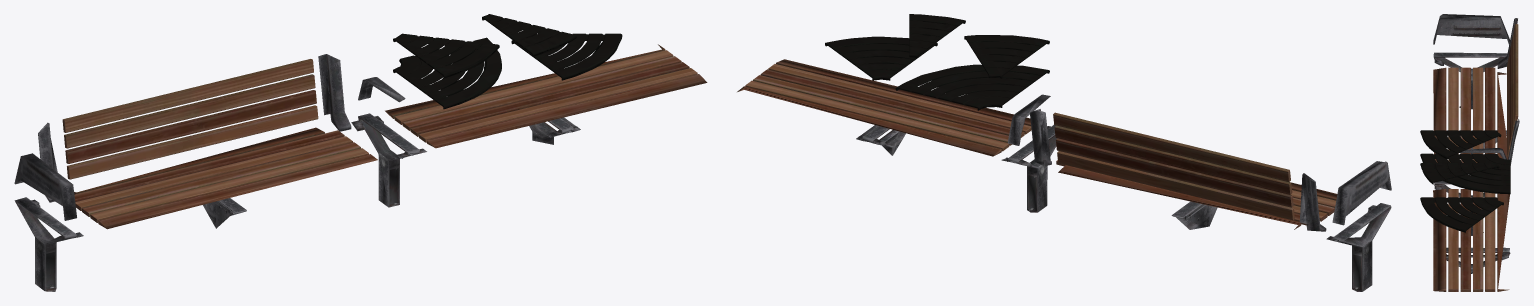
The model's file is modular_street_seating.glb.
The picture shows the model from 3 angles, left to right: view 1: azimuth 30°, elevation 25°; view 2: azimuth 150°, elevation 25°; view 3: azimuth 270°, elevation 25°; orthographic projection. The views are drawn at different scales.
Parts seen in each view (by area): view 1: seat, connector_60, legs_double, crossbar; view 2: seat, connector_60, legs_double, crossbar; view 3: seat, connector_60, crossbar, legs_double.
Boxes of the visible parts, bbox=[...] form: seat: bbox=[62, 44, 707, 229]; connector_60: bbox=[393, 14, 622, 109]; legs_double: bbox=[14, 113, 580, 291]; crossbar: bbox=[14, 54, 405, 220]; seat: bbox=[737, 59, 1337, 229]; connector_60: bbox=[825, 14, 1049, 110]; legs_double: bbox=[856, 125, 1391, 291]; crossbar: bbox=[1007, 94, 1391, 231]; seat: bbox=[1433, 24, 1518, 291]; connector_60: bbox=[1420, 130, 1510, 232]; crossbar: bbox=[1433, 14, 1519, 165]; legs_double: bbox=[1433, 52, 1510, 273].
Bounding box in the file's own units: 4.34 × 0.9499 × 0.7703.
Materials: 4 (4 with a texture image).
